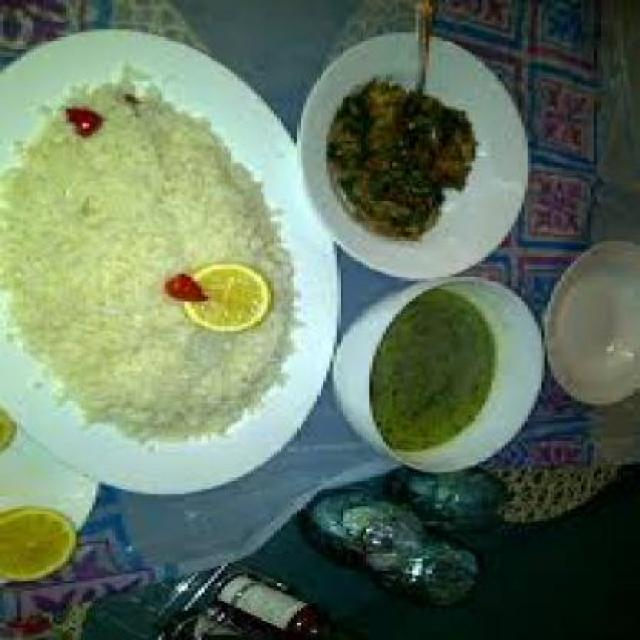fried rice: (6, 56, 300, 462)
molokhia: (383, 266, 522, 465)
